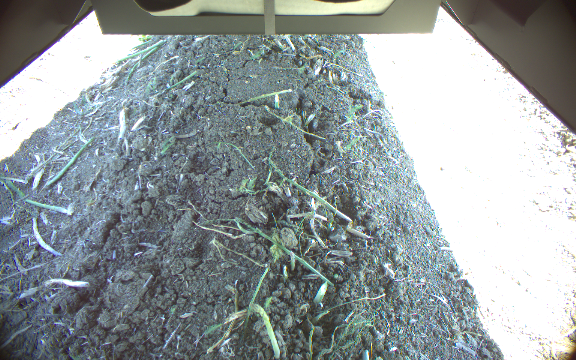aspa: (247, 301, 282, 359), (311, 281, 327, 307)
